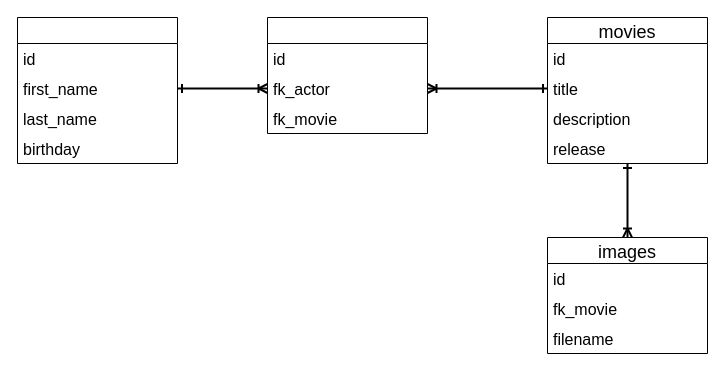
Some shapes in this 725 by 374 pixel diagram are drawn without their labels. The shapes that lost their labels are listed below. From the top down, each one's box as (x1, y1, x2, y2) in pixels, then its label:
(16, 16, 178, 164): actors
(266, 16, 428, 134): actors_movies
